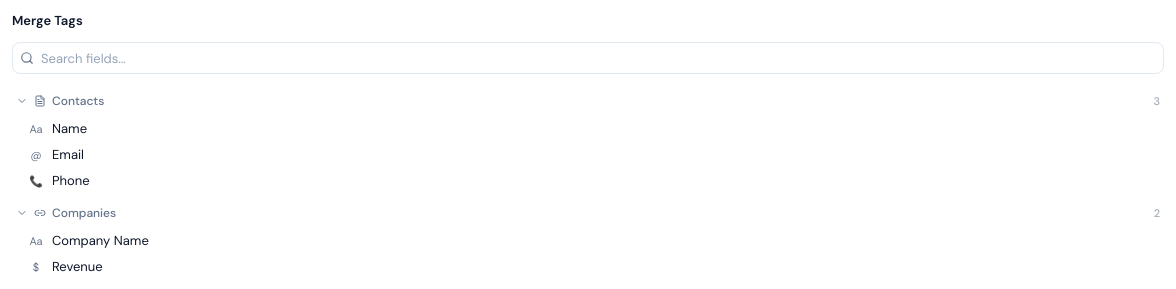
Test: MergeTagInserter › collapses and expands groups on header click
Expected: the text "Name" is shown, [52,120,87,138]
# Click group header to collapse
Click the text "Contacts": [78, 101] box [52,92,104,110]
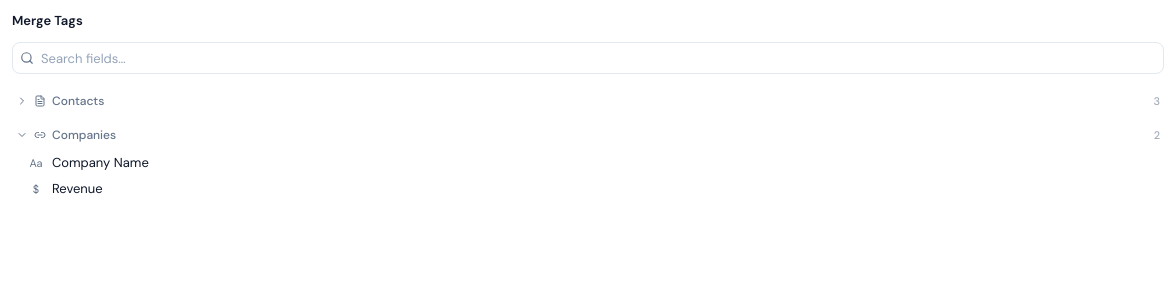
Now the button "Email" is gone
# Click again to expand
Click the text "Contacts": [78, 101] box [52,92,104,110]
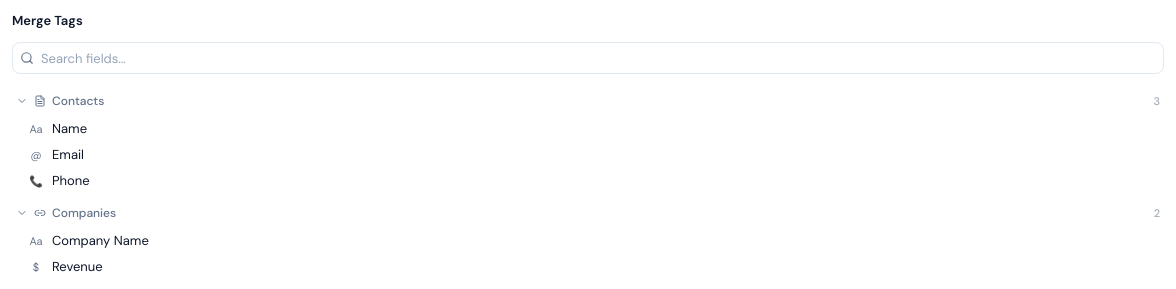
Now the text "Name" is shown, box [52,120,87,138]
